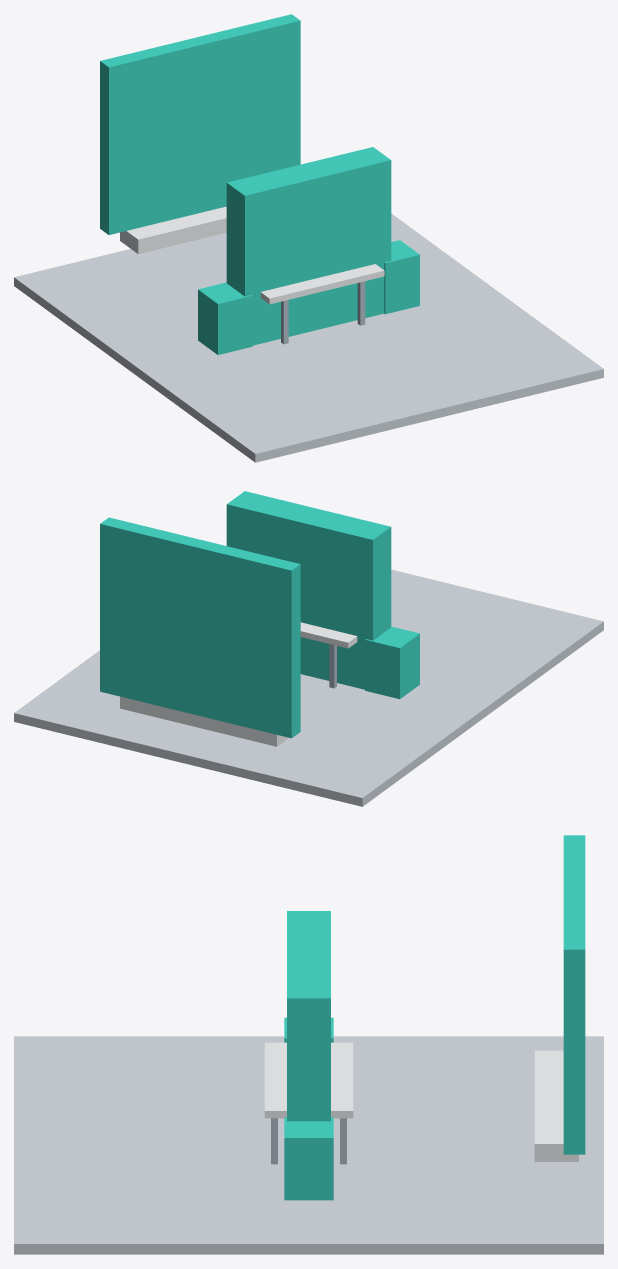
3 renders of one model, top to bottom at view 1: azimuth 30°, elevation 25°; view 2: azimuth 150°, elevation 25°; view 3: azimuth 270°, elevation 25°, orthographic. The views are drawn at different scales.
Parts seen in each view (by area): view 1: Exhibition Booth Concept; view 2: Exhibition Booth Concept; view 3: Exhibition Booth Concept.
Part boxes in pixels (x1,y1,x2,y2): Exhibition Booth Concept: (14,14,603,462); Exhibition Booth Concept: (14,491,603,806); Exhibition Booth Concept: (14,835,603,1254).
Bounding box in the file's own units: 5 × 2.9 × 6.
